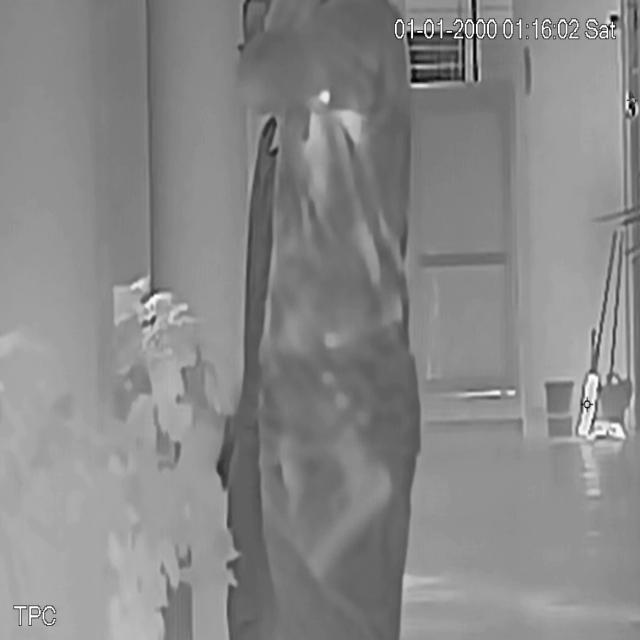Weapon: (294, 425, 404, 583)
